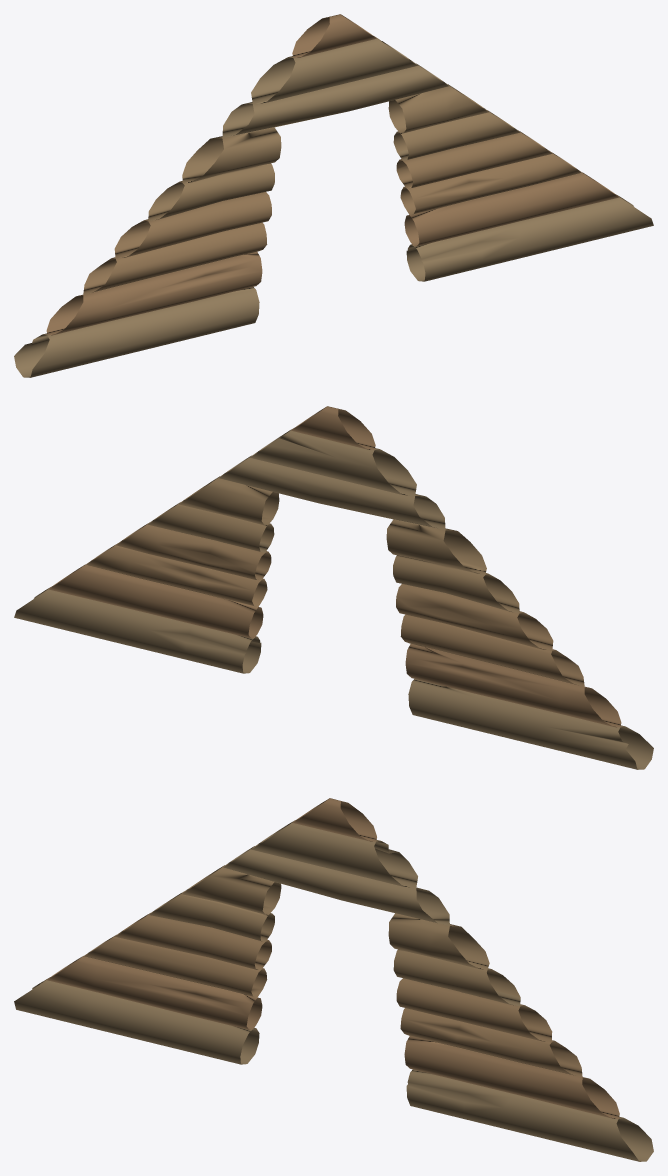
Rendered from rpgpp_ag_roof_end_01_9x4_wall_door_01b.fbx.
3 views of the same model, one above another, from view 1: azimuth 30°, elevation 25°; view 2: azimuth 150°, elevation 25°; view 3: azimuth 330°, elevation 25° (orthographic).
Visible parts, largest first — view 1: rpgpp_ag_roof_end_01_9x4_wall_door_01b; view 2: rpgpp_ag_roof_end_01_9x4_wall_door_01b; view 3: rpgpp_ag_roof_end_01_9x4_wall_door_01b.
Part boxes in pixels (x1,y1,x2,y2): rpgpp_ag_roof_end_01_9x4_wall_door_01b: [14, 14, 653, 377]; rpgpp_ag_roof_end_01_9x4_wall_door_01b: [14, 406, 653, 769]; rpgpp_ag_roof_end_01_9x4_wall_door_01b: [14, 798, 653, 1161].
Bounding box in the file's own units: 9 × 3.94 × 0.4626.
